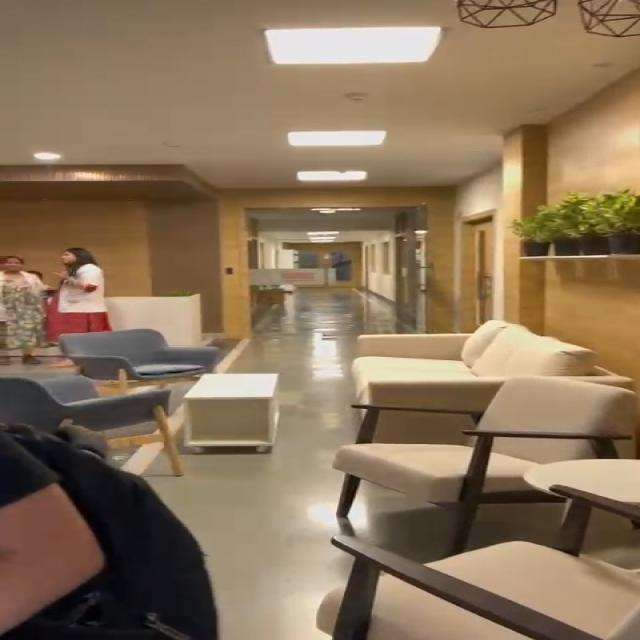floor: (210, 453, 322, 635), (293, 374, 336, 492), (289, 285, 375, 332), (252, 332, 332, 372)
furniture: (291, 332, 622, 516), (263, 504, 640, 638), (0, 355, 195, 450), (494, 190, 640, 258), (86, 322, 232, 381)
moving_object: (0, 441, 268, 640), (0, 227, 121, 340)
wall: (451, 144, 640, 198)
